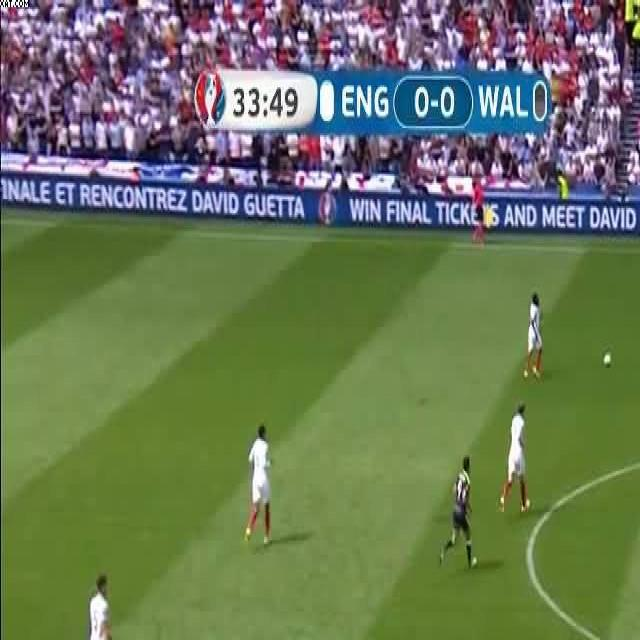ball: (603, 353, 611, 366)
player-white: (439, 454, 478, 572), (245, 424, 273, 544), (502, 403, 530, 516), (82, 576, 122, 640), (524, 294, 542, 380), (471, 182, 485, 244)
